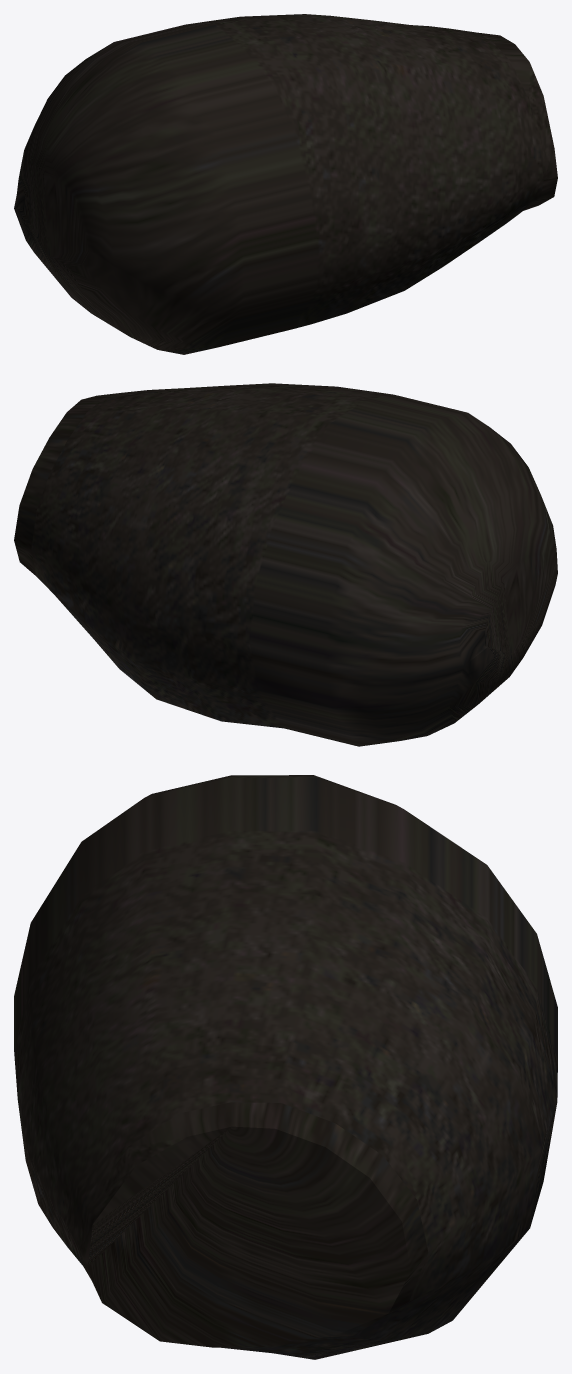
The model's file is AntebrazoIzq.obj.
The picture shows the model from 3 angles, top to bottom: view 1: azimuth 30°, elevation 25°; view 2: azimuth 150°, elevation 25°; view 3: azimuth 270°, elevation 25°; orthographic projection. The views are drawn at different scales.
Parts seen in each view (by area): view 1: AntebrazoIzq:Mesh; view 2: AntebrazoIzq:Mesh; view 3: AntebrazoIzq:Mesh.
Boxes of the visible parts, left/top/right/bottom form: AntebrazoIzq:Mesh: left=14, top=14, right=557, bottom=354; AntebrazoIzq:Mesh: left=14, top=383, right=557, bottom=746; AntebrazoIzq:Mesh: left=14, top=775, right=557, bottom=1359.
Size of the model in its own units: 0.7138 by 0.4426 by 0.4954.
Materials: 1 (1 with a texture image).
